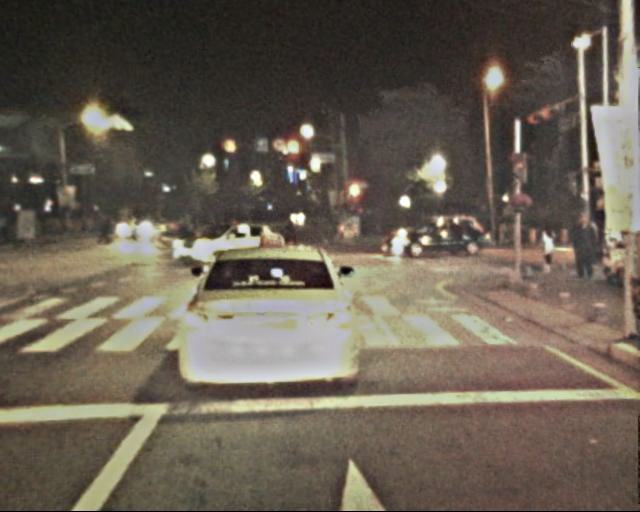person: (568, 213, 596, 282), (177, 210, 210, 243), (535, 225, 556, 276), (96, 210, 112, 244), (494, 218, 510, 248), (282, 216, 295, 248)
